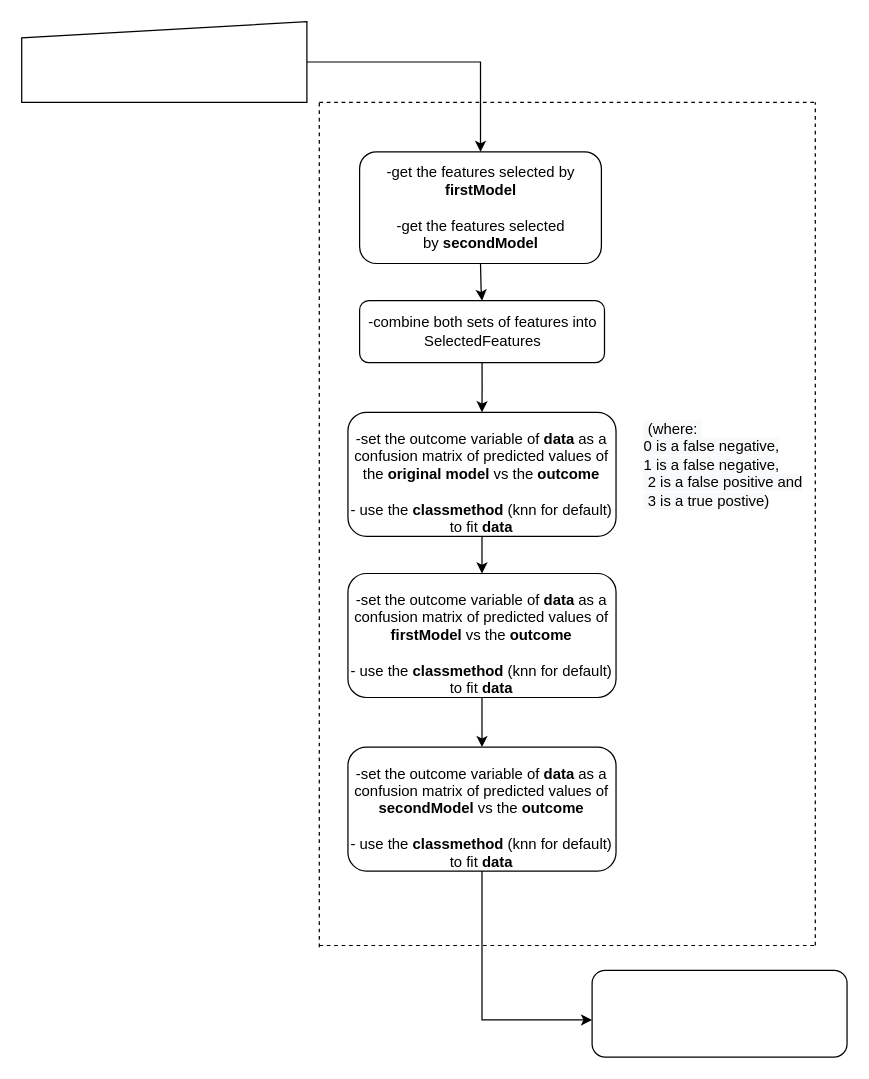
This 869x1079 diagram has some shape labels left out. Here are the shapes that lost their labels. From the top down, the centre of each, then its label:
the point at 163,61: set: original model, firstmodel, secondModel, outcome, classMethod,data
the point at 719,1013: return: a list of classmodels
